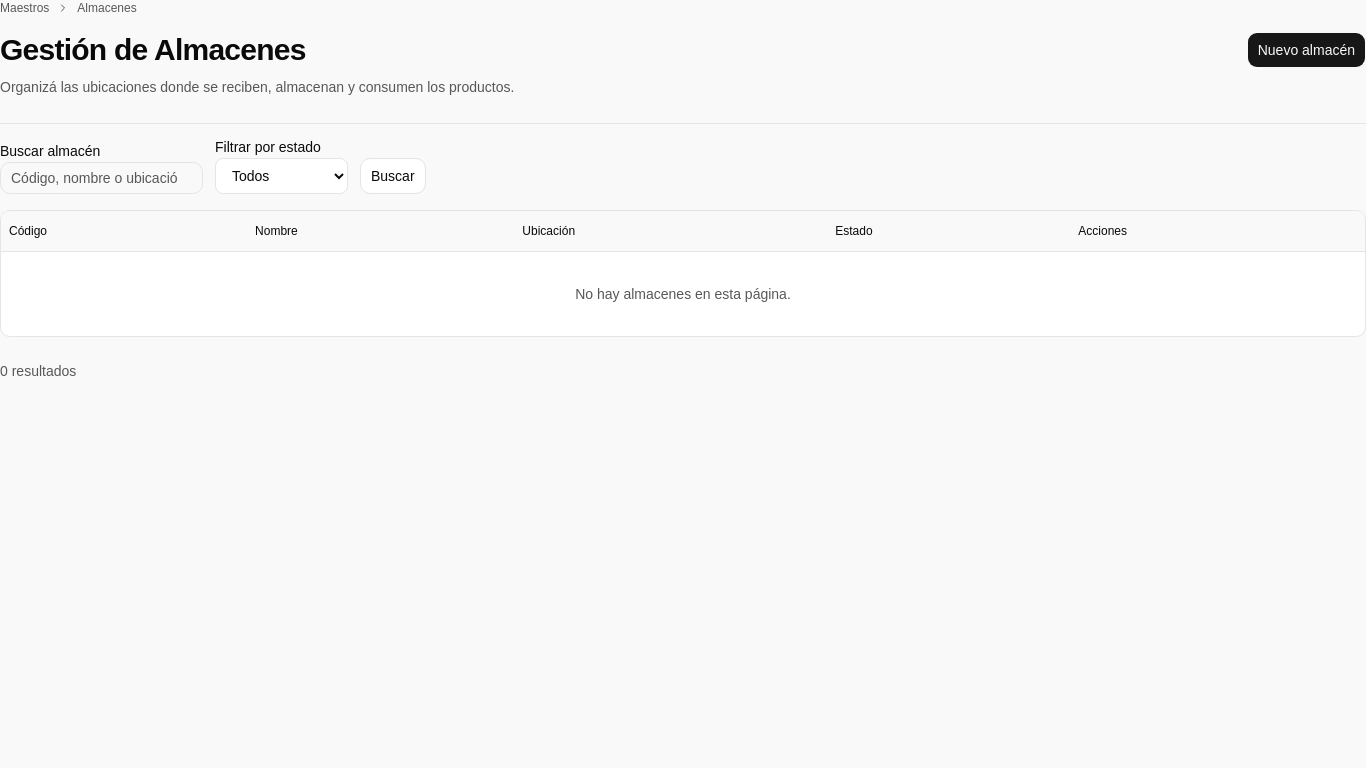
Test case: Almacenes: interfaz de Inventario › permite crear un almacén inicialmente inactivo
Expected: the table "almacenes" is shown, top-left (1, 211), bottom-right (1365, 336)
Step 1. Click the button "Nuevo almacén" → (1306, 50), box top-left (1247, 32), bottom-right (1365, 68)
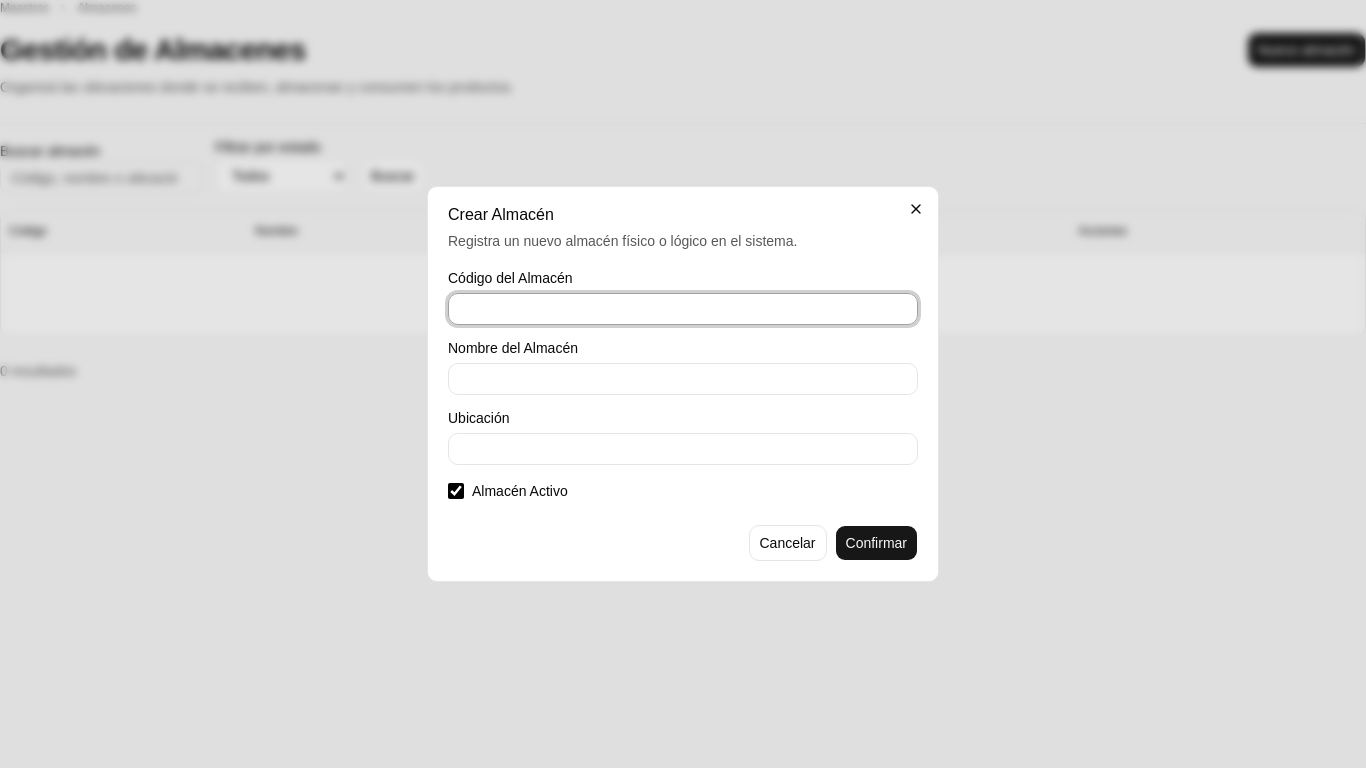
Step 2. Type "ALM-NORTE" into the field labelled "Código del Almacén" → (683, 309), box top-left (448, 293), bottom-right (918, 325)
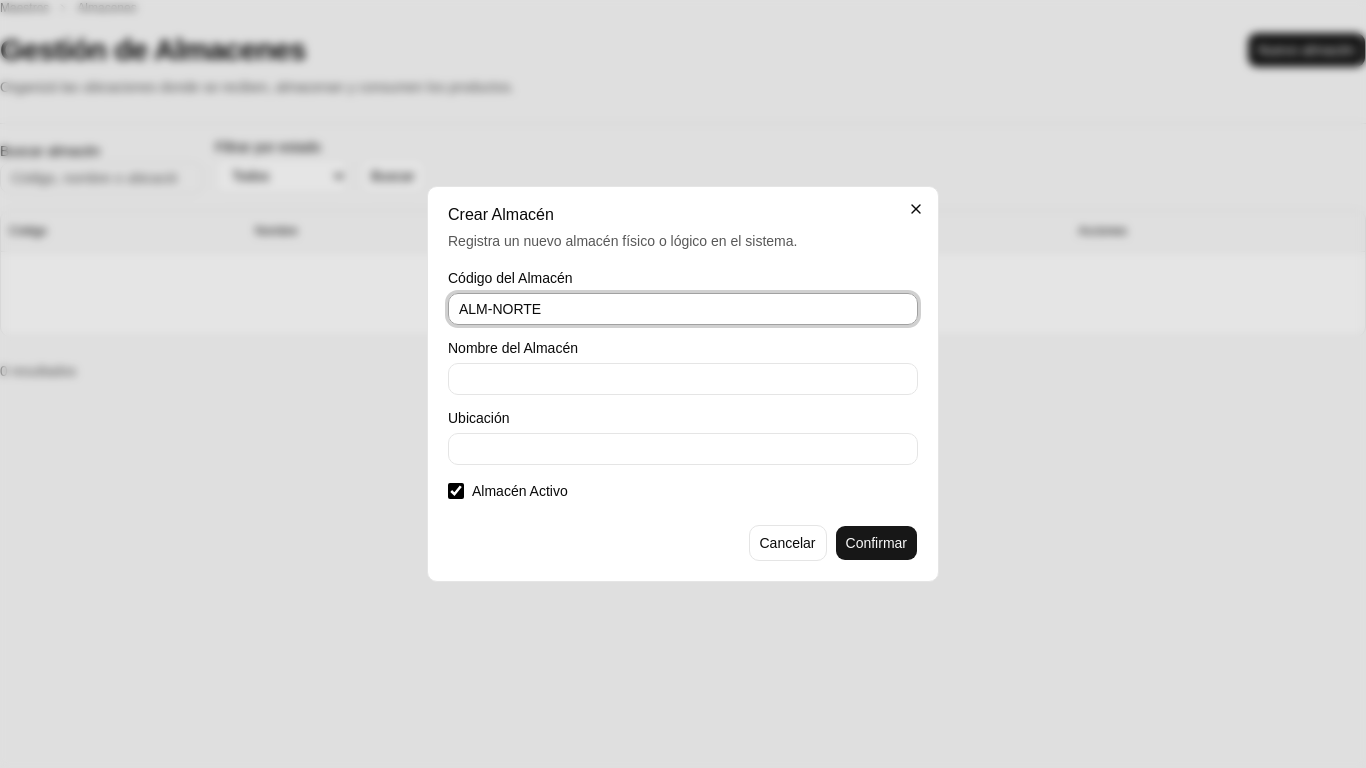
Step 3. Type "Almacén Norte" into the field labelled "Nombre del Almacén" → (683, 379), box top-left (448, 363), bottom-right (918, 395)
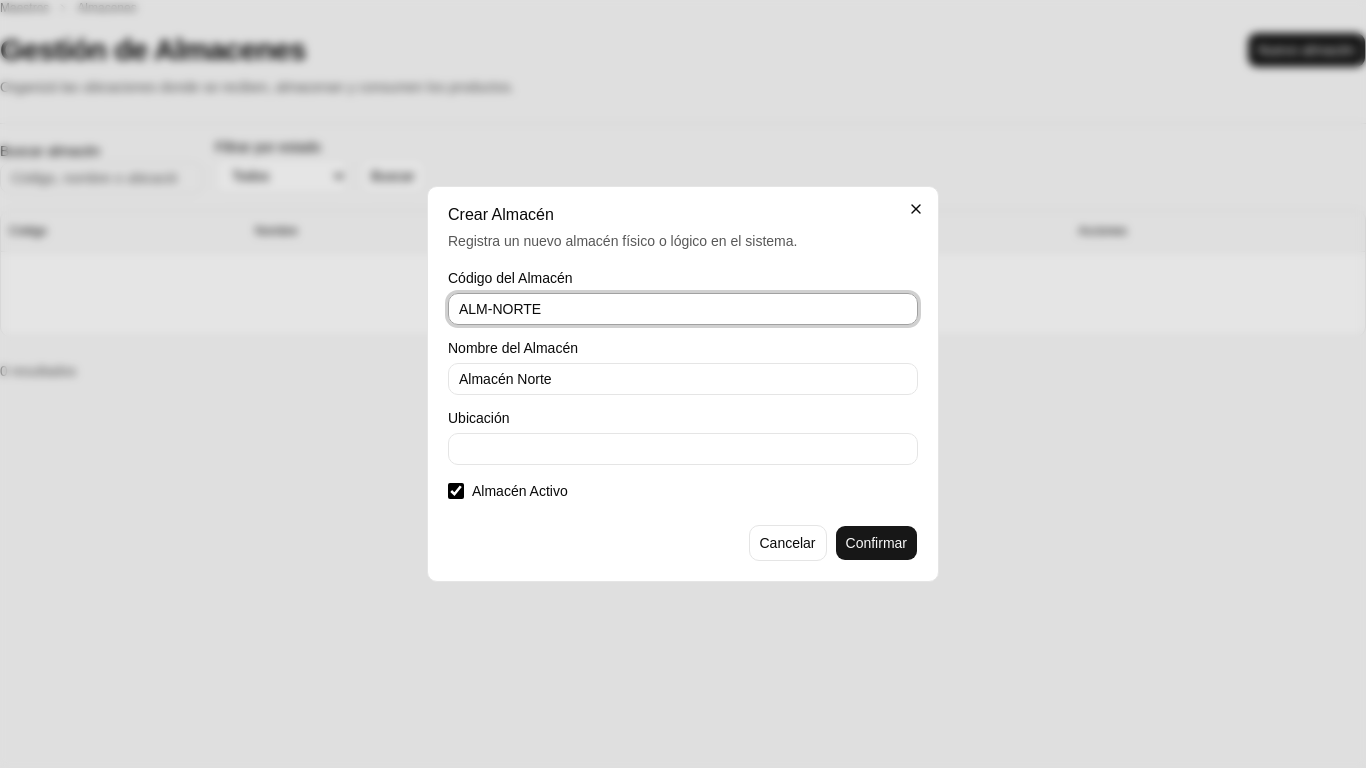
Step 4. Type "Nave Norte" into the field labelled "Ubicación" → (683, 449), box top-left (448, 433), bottom-right (918, 465)
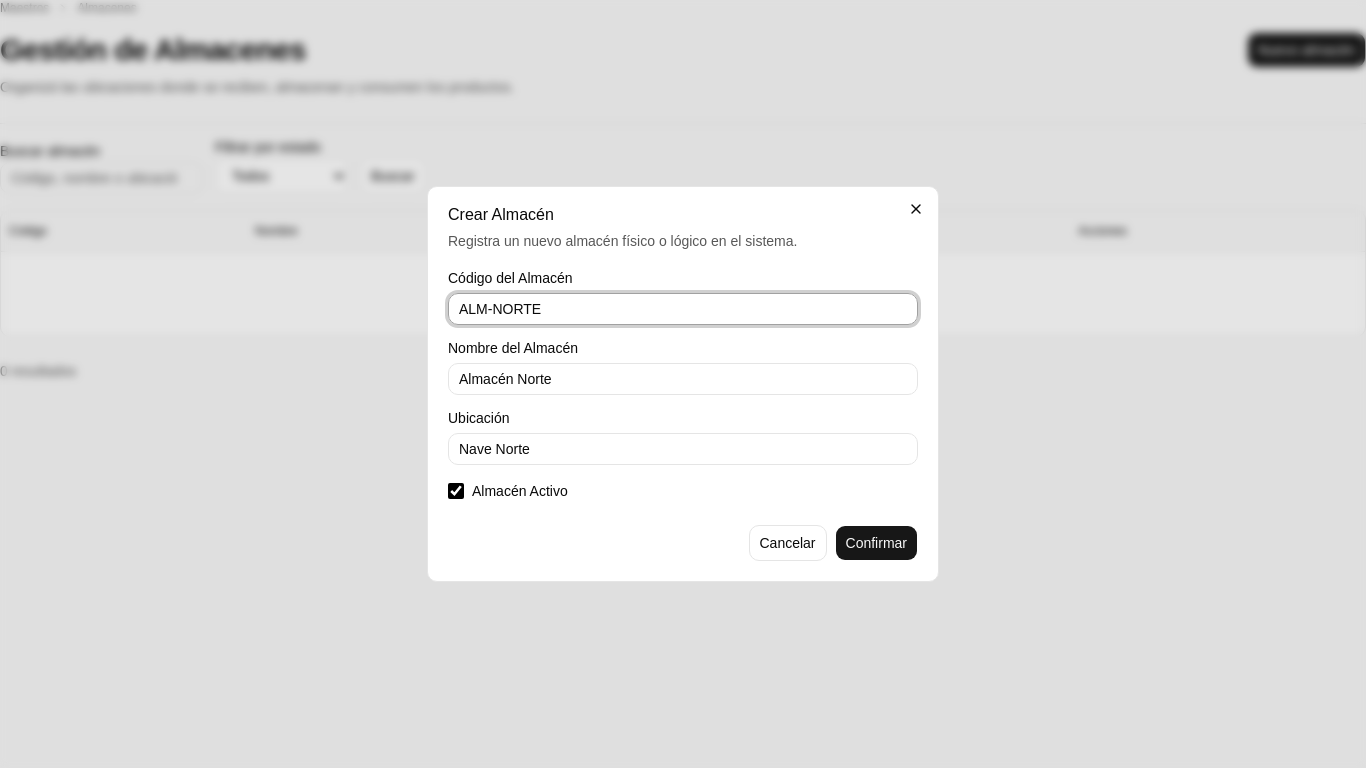
Step 5. Click the checkbox labelled "Almacén Activo" → (456, 491), box top-left (448, 483), bottom-right (464, 499)
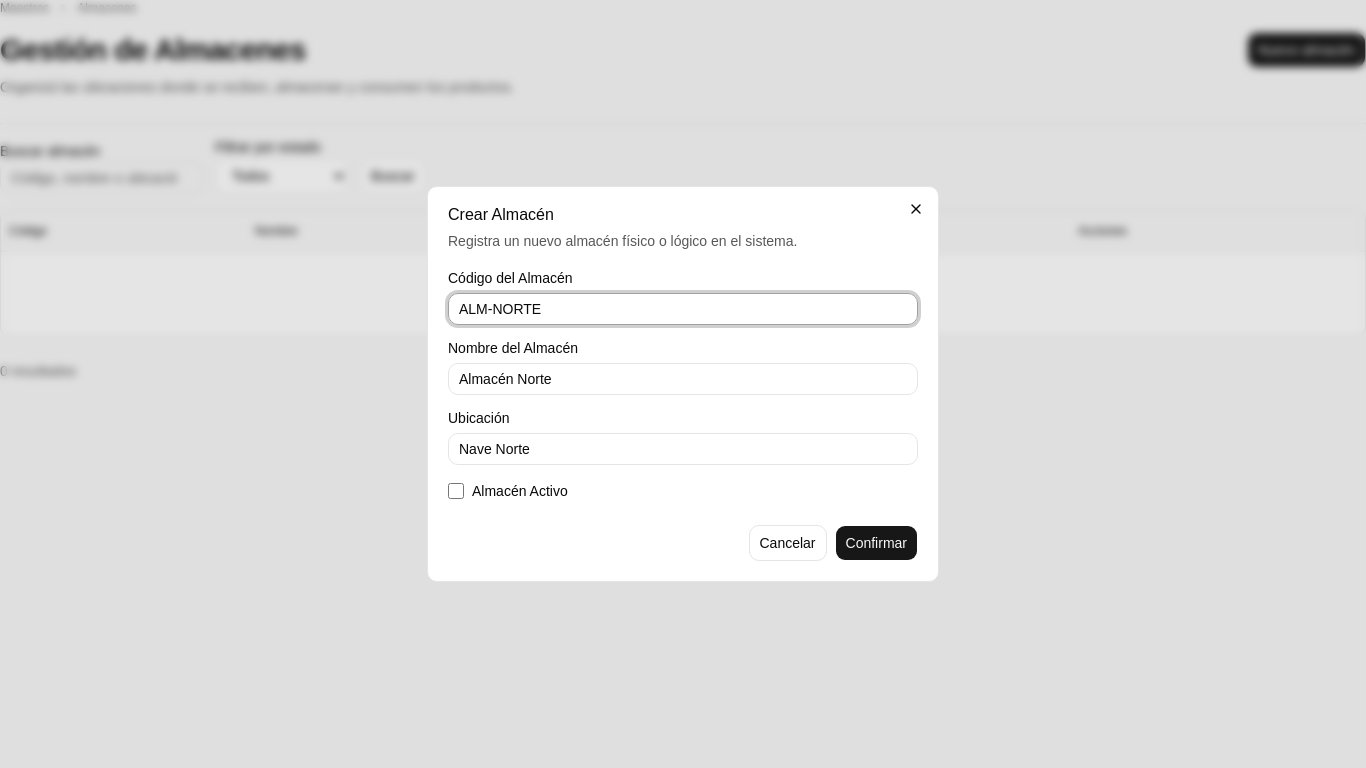
Step 6. Click the button "Confirmar" → (876, 543), box top-left (834, 525), bottom-right (918, 561)
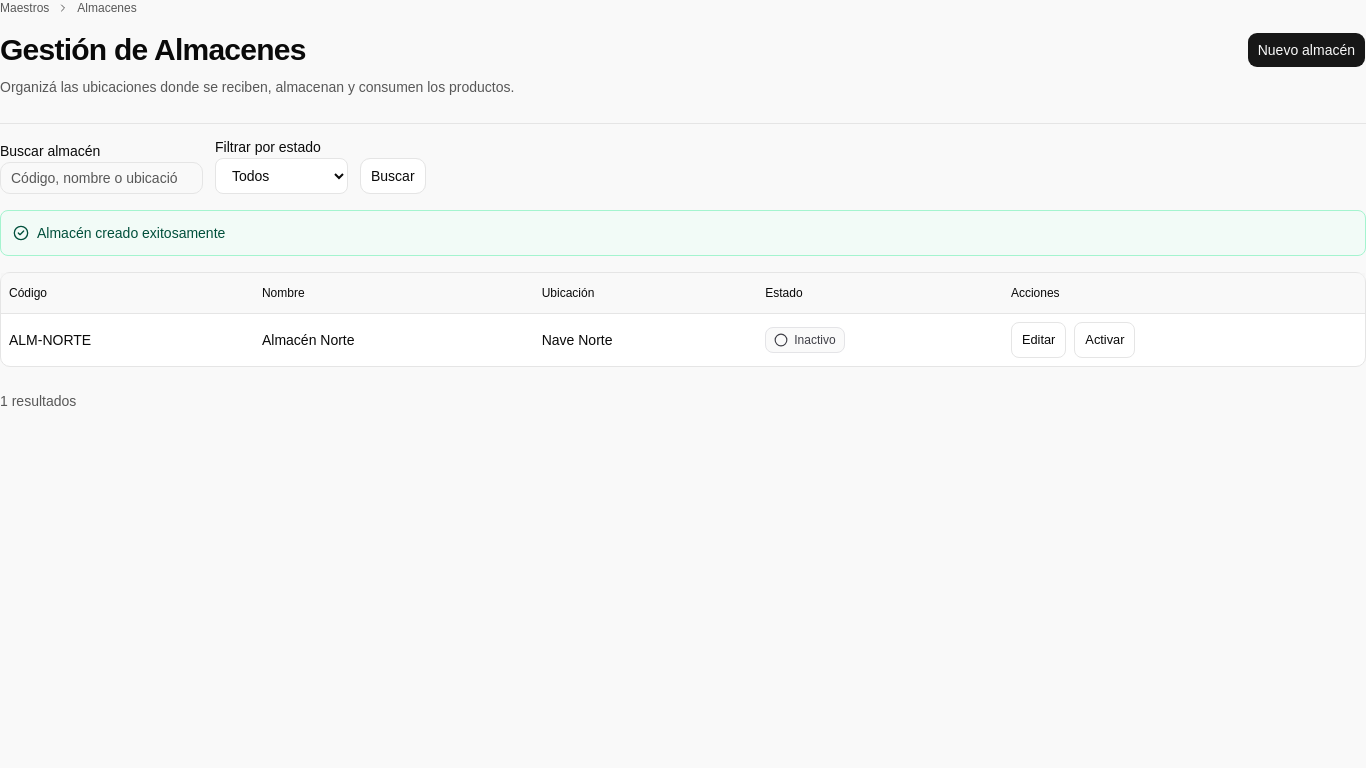
Result: the text "Almacén creado exitosamente" is shown at top-left (37, 223), bottom-right (225, 243)
Result: the text "Inactivo" is shown at top-left (765, 327), bottom-right (845, 353)
